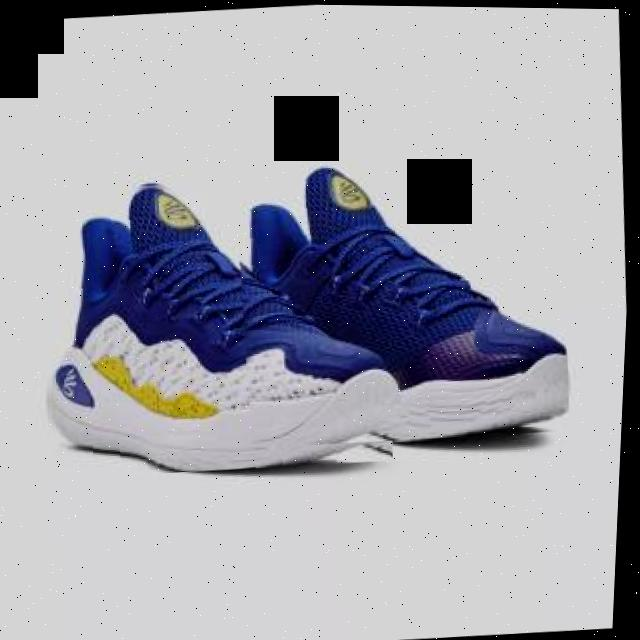shoe: (32, 163, 407, 482), (225, 147, 583, 451)
